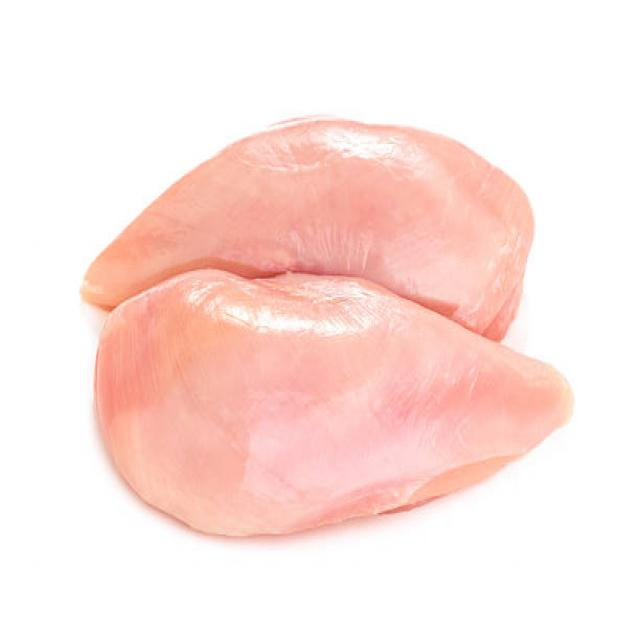Chicken: (95, 291, 606, 529), (100, 102, 564, 266)
